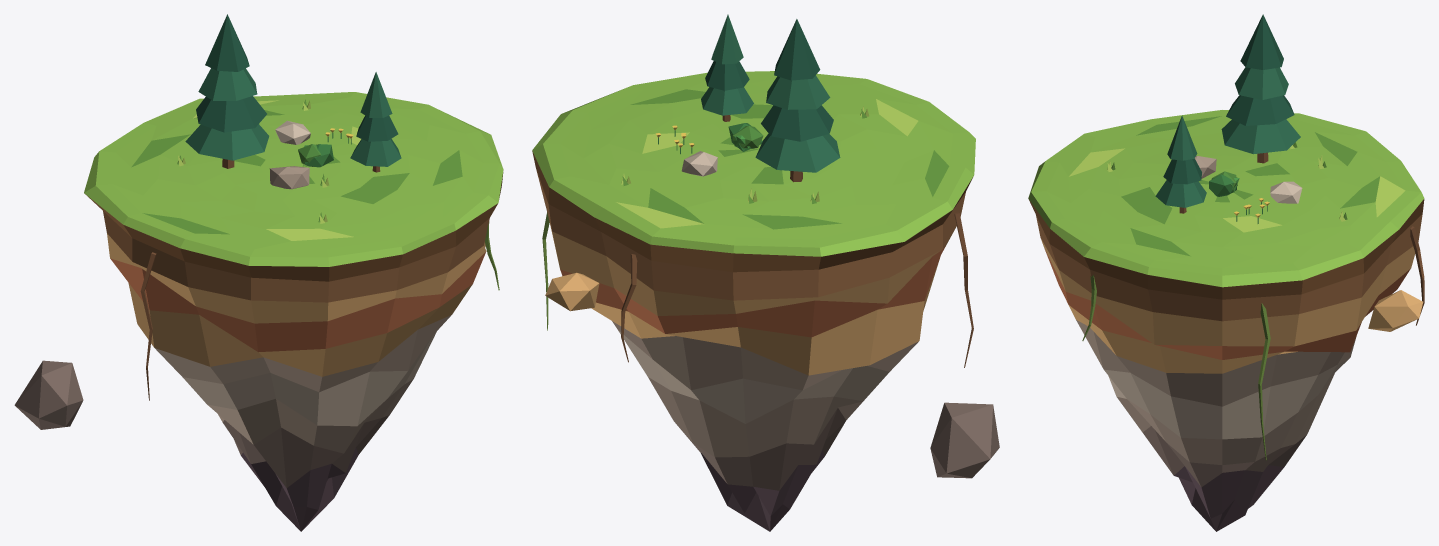
File: islet_c.glb
3 renders of one model, left to right at view 1: azimuth 30°, elevation 25°; view 2: azimuth 150°, elevation 25°; view 3: azimuth 270°, elevation 25°, orthographic. The views are drawn at different scales.
Visible parts, largest first — view 1: Island-col, Dressing, Debris, Roots; view 2: Island-col, Dressing, Debris, Roots; view 3: Island-col, Dressing, Debris, Roots.
Part boxes in pixels (x1,y1,x2,y2): Island-col: (84,92,503,531); Dressing: (177,14,401,223); Debris: (14,360,83,429); Roots: (140,221,499,400); Island-col: (532,71,975,531); Dressing: (621,14,869,203); Debris: (545,272,999,478); Roots: (542,212,973,367); Island-col: (1028,110,1424,531); Dressing: (1107,14,1347,223); Debris: (1368,290,1423,331); Roots: (1082,226,1424,460).
Size of what is drawn, in the model's own units: 24.71 by 27.48 by 19.96.
